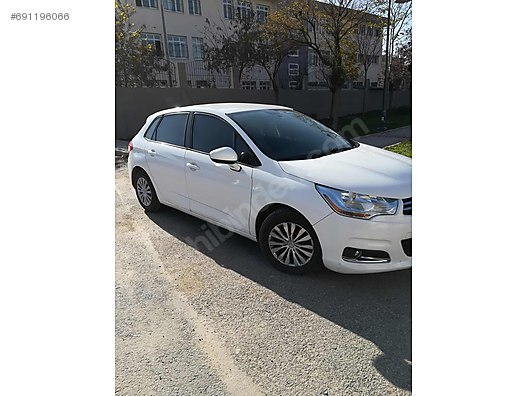citroen: (131, 94, 416, 293)
